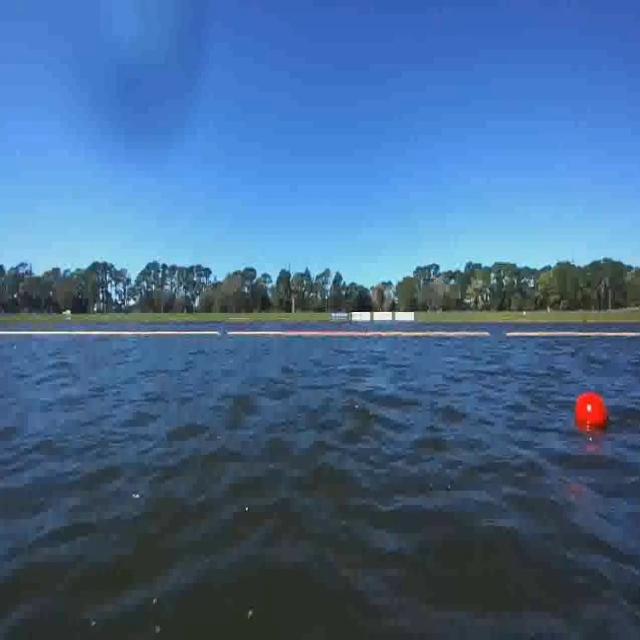red-buoy: (574, 392, 608, 435)
